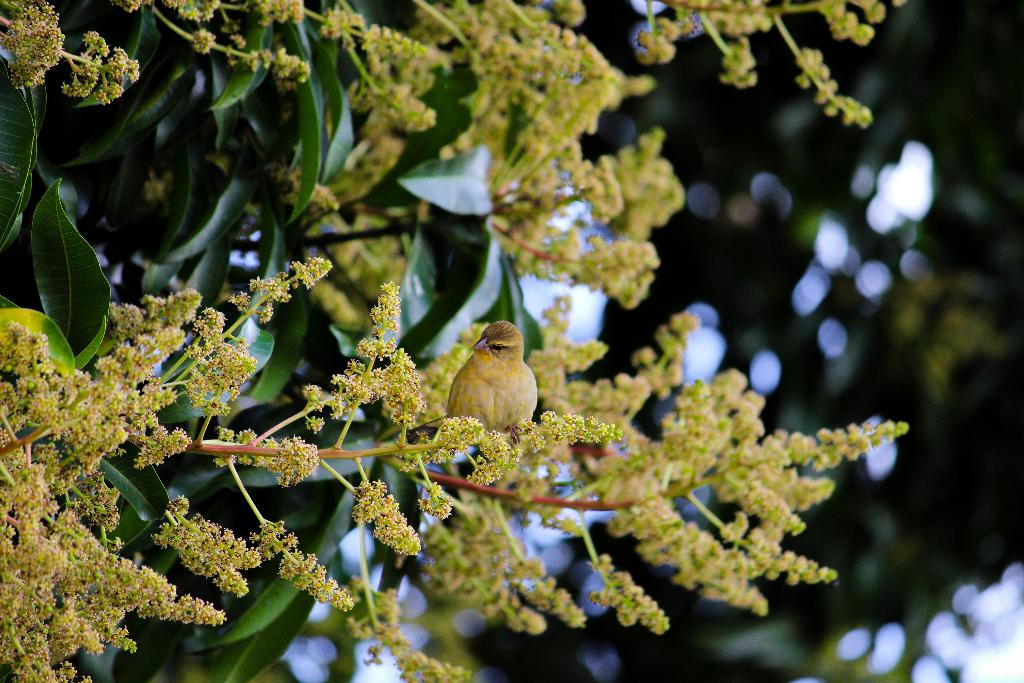Tree: (0, 0, 913, 682)
